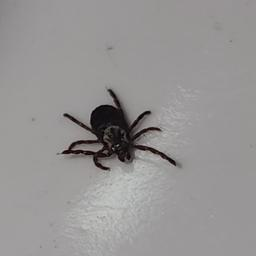Dermacentor variabilis: (60, 86, 179, 171)
